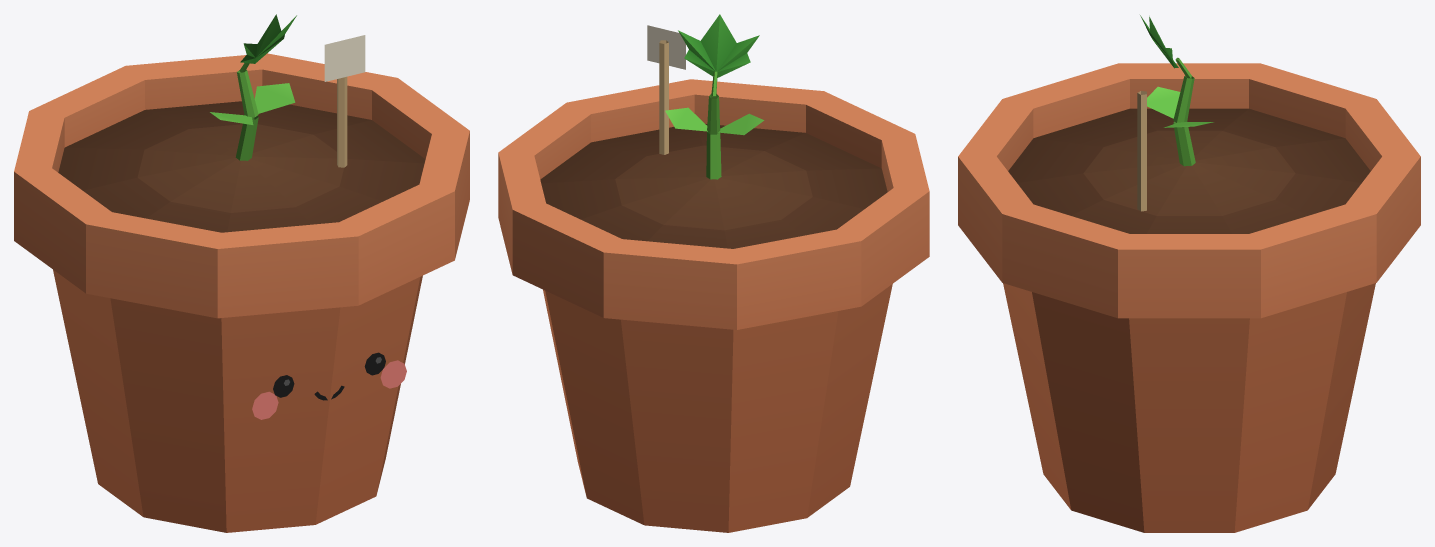
Rendered from cute_cucumber_stage1.glb.
The picture shows the model from 3 angles, left to right: view 1: azimuth 30°, elevation 25°; view 2: azimuth 150°, elevation 25°; view 3: azimuth 270°, elevation 25°; orthographic projection. The views are drawn at different scales.
Parts seen in each view (by area): view 1: PlantModel; view 2: PlantModel; view 3: PlantModel.
Boxes of the visible parts, x1,y1,x2,y2 form: PlantModel: (14, 14, 469, 532); PlantModel: (498, 14, 929, 532); PlantModel: (958, 15, 1420, 532).
Bounding box in the file's own units: 0.3766 × 0.4393 × 0.396.
